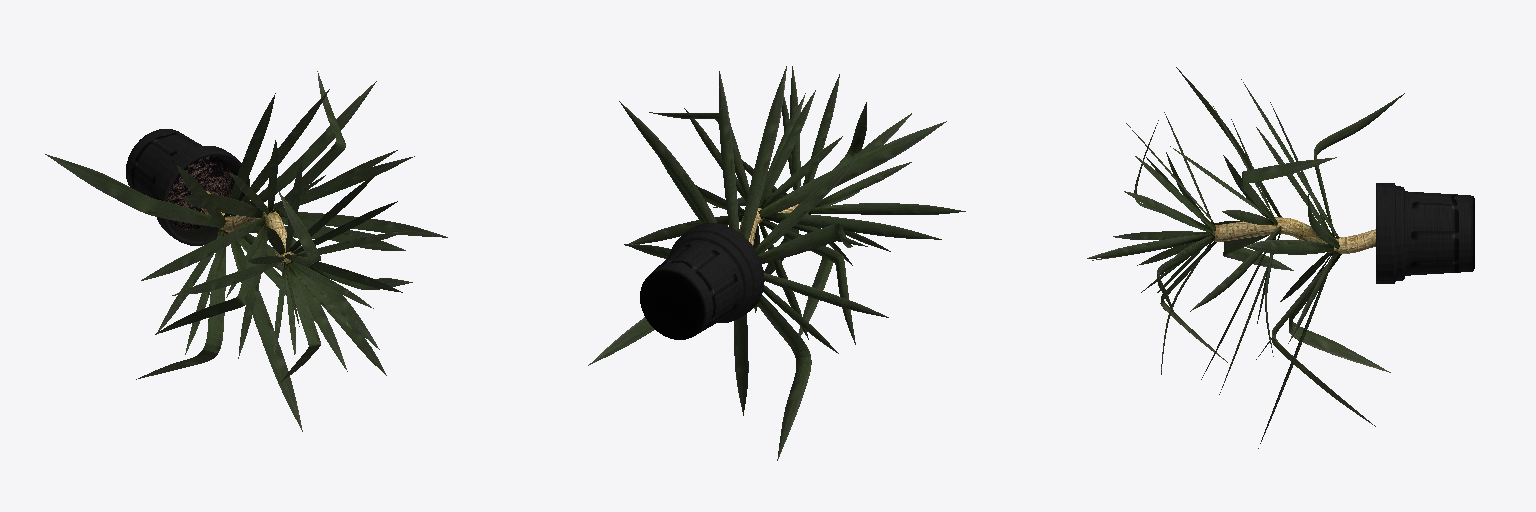
3 views of the same model, side by side, from view 1: azimuth 30°, elevation 25°; view 2: azimuth 150°, elevation 25°; view 3: azimuth 270°, elevation 25° (orthographic).
Parts seen in each view (by area): view 1: 10461_Yucca_Plant_v1; view 2: 10461_Yucca_Plant_v1; view 3: 10461_Yucca_Plant_v1.
Boxes of the visible parts, x1,y1,x2,y2 form: 10461_Yucca_Plant_v1: [45, 71, 447, 431]; 10461_Yucca_Plant_v1: [588, 66, 965, 460]; 10461_Yucca_Plant_v1: [1087, 67, 1474, 448].
Bounding box in the file's own units: 138 × 157 × 157.
1 materials, 1 textured.